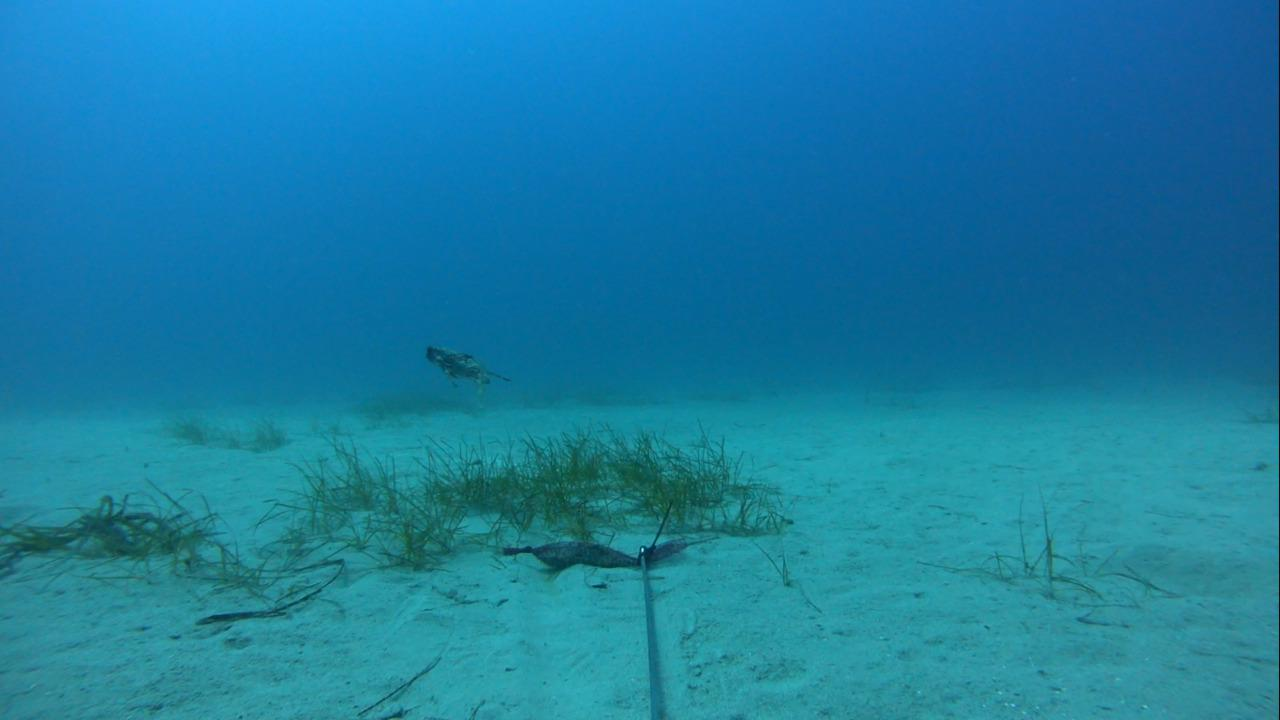dactylopterus: (414, 338, 506, 394)
